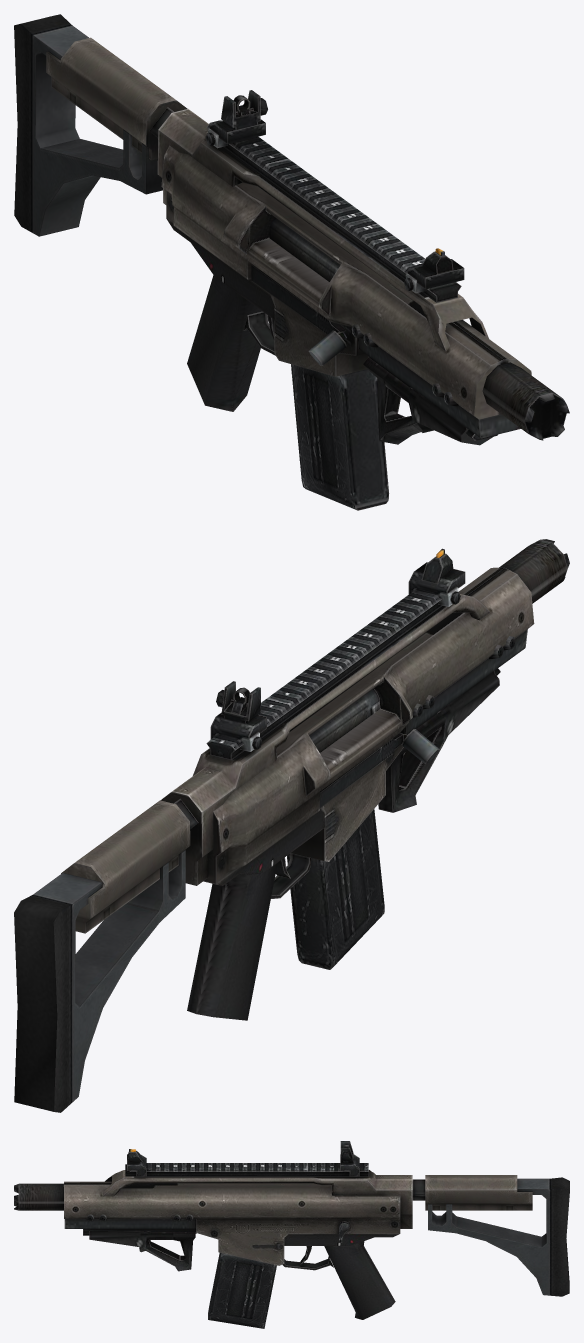
File: shotgun.glb
3 renders of one model, top to bottom at view 1: azimuth 30°, elevation 25°; view 2: azimuth 150°, elevation 25°; view 3: azimuth 270°, elevation 25°, orthographic. The views are drawn at different scales.
Parts seen in each view (by area): view 1: shotgun; view 2: shotgun; view 3: shotgun.
Part boxes in pixels (x1,y1,x2,y2): shotgun: [14, 14, 569, 510]; shotgun: [14, 539, 569, 1112]; shotgun: [14, 1141, 569, 1328].
Size of the model in its own units: 0.1901 by 0.6253 by 1.75.
1 material, 1 textured.
